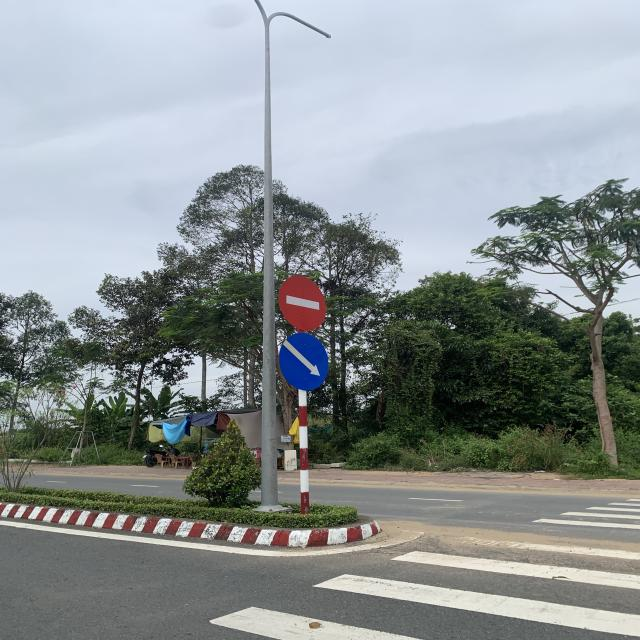Cam_Di_Nguoc_Chieu: (279, 275, 327, 331)
Chi_Huong_Di_Phai: (279, 332, 327, 391)
